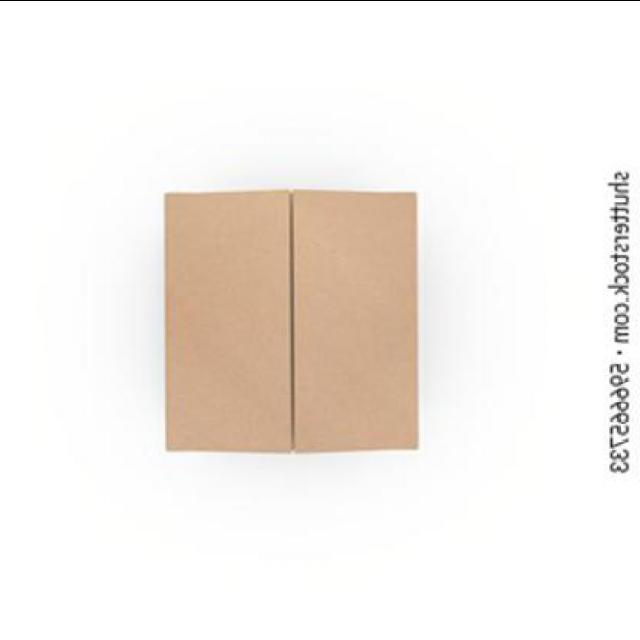normal: (158, 188, 424, 454)
